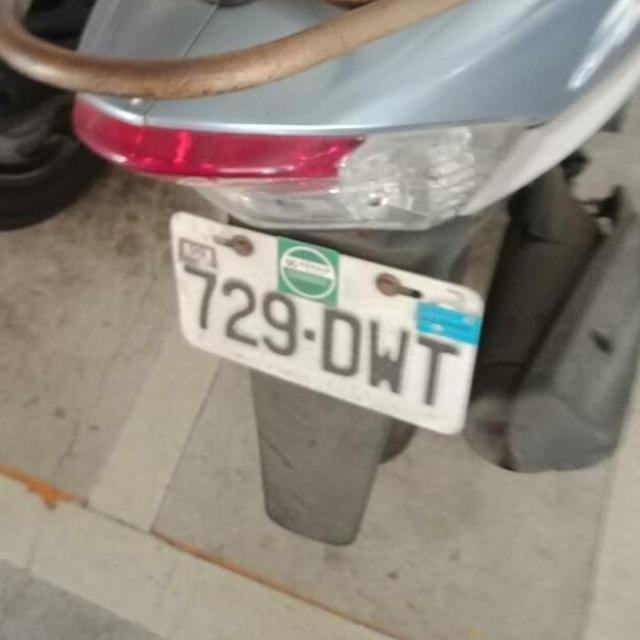W: (150, 201, 502, 448)
